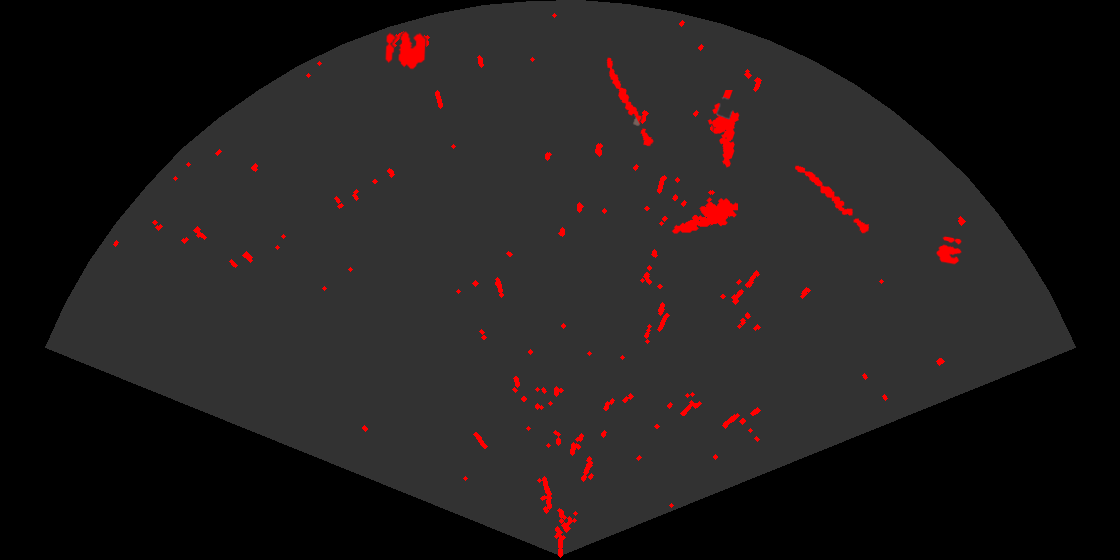ball: (384, 30, 428, 71), (935, 235, 963, 266)
chain: (793, 164, 871, 235), (605, 56, 655, 148)
frogman: (706, 90, 741, 169), (670, 196, 738, 235)
